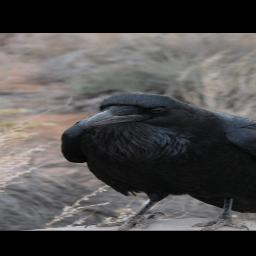Crow: (56, 92, 256, 230)
